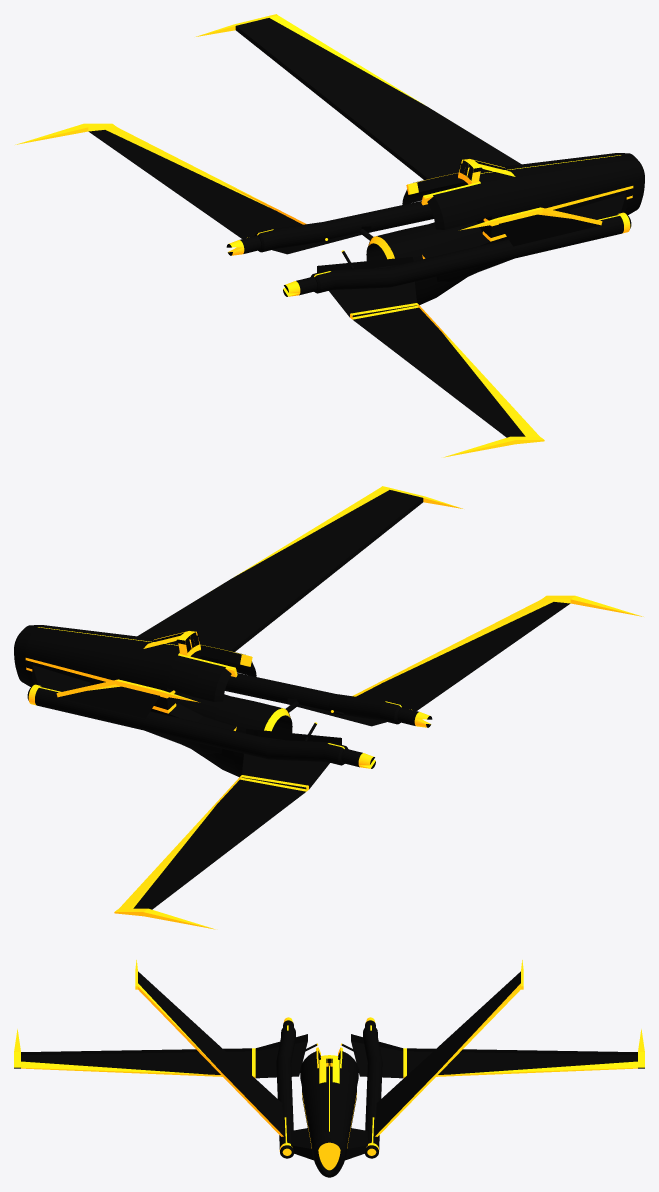
The model's file is jet.glb.
3 views of the same model, one above another, from view 1: azimuth 30°, elevation 25°; view 2: azimuth 150°, elevation 25°; view 3: azimuth 270°, elevation 25° (orthographic). The views are drawn at different scales.
Visible parts, largest first — view 1: Cylinder.004; view 2: Cylinder.004; view 3: Cylinder.004.
Part boxes in pixels (x1,y1,x2,y2): Cylinder.004: [15, 14, 644, 457]; Cylinder.004: [14, 486, 643, 929]; Cylinder.004: [14, 960, 644, 1177].
Bounding box in the file's own units: 1218 × 554 × 2228.
